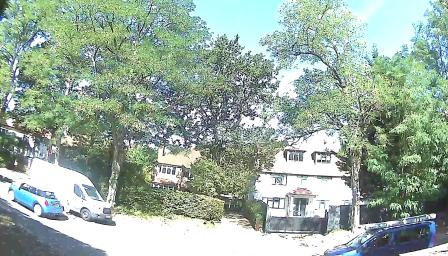Cars: (32, 157, 108, 225), (326, 224, 434, 256), (13, 180, 58, 218)
